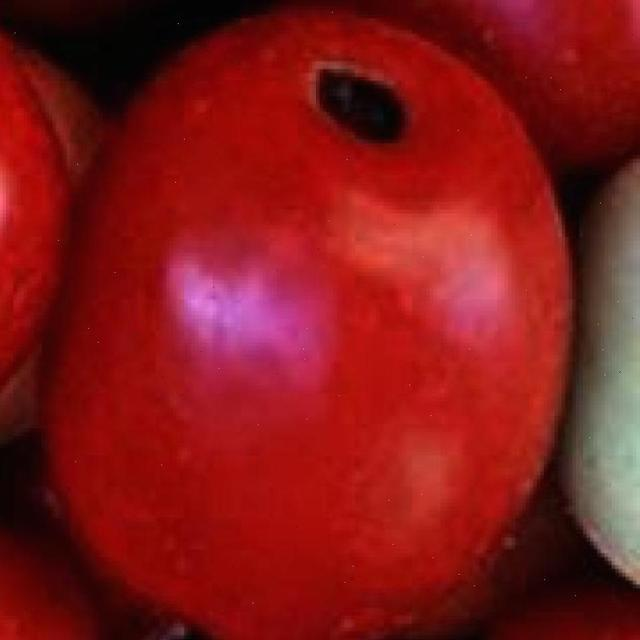Blossom End Rot Fruit: (206, 44, 284, 108)
